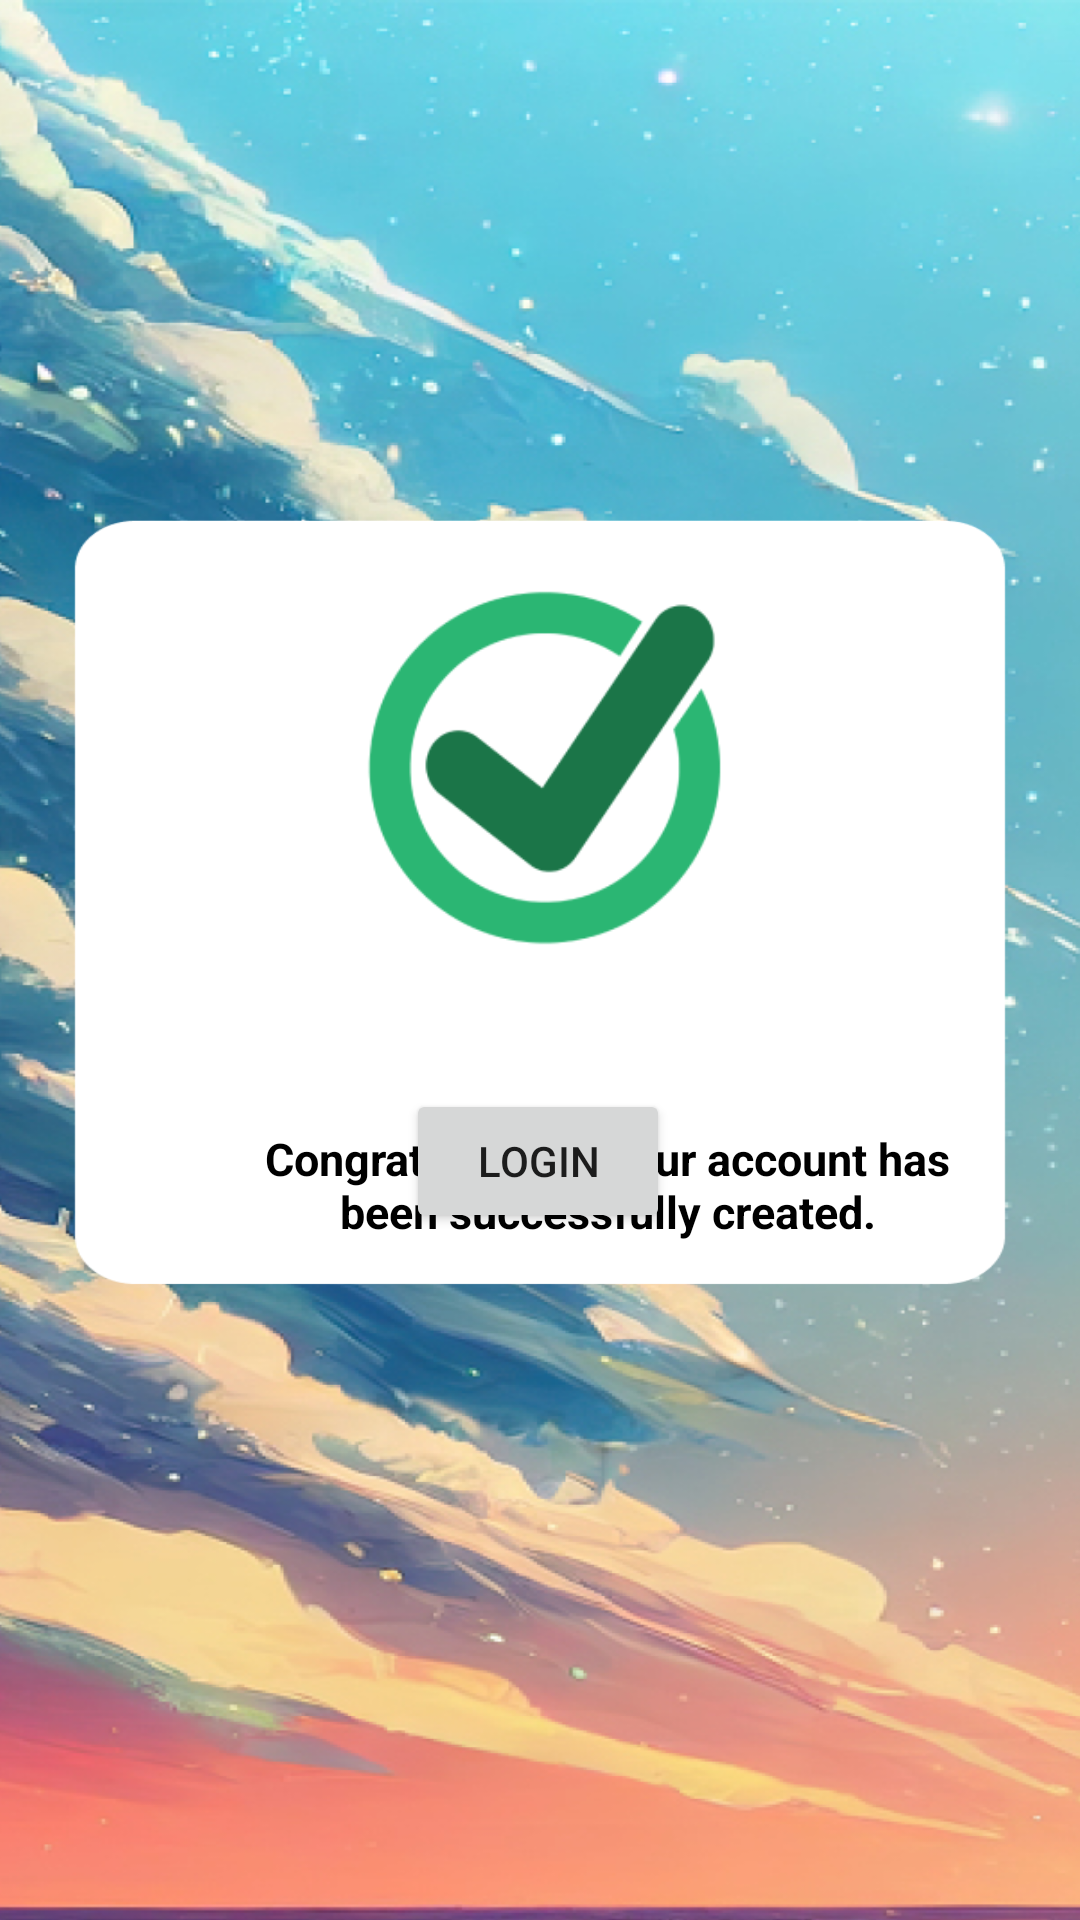

Icons on this 1080x1920 Android screen, each with its box as {"left": x1, "top": y1, "right": x2, "bottom": y2}:
centang: {"left": 368, "top": 591, "right": 721, "bottom": 944}
